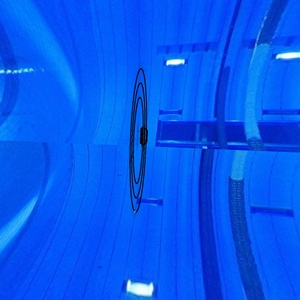circle: (126, 67, 152, 217)
submarine: (139, 123, 150, 152)
